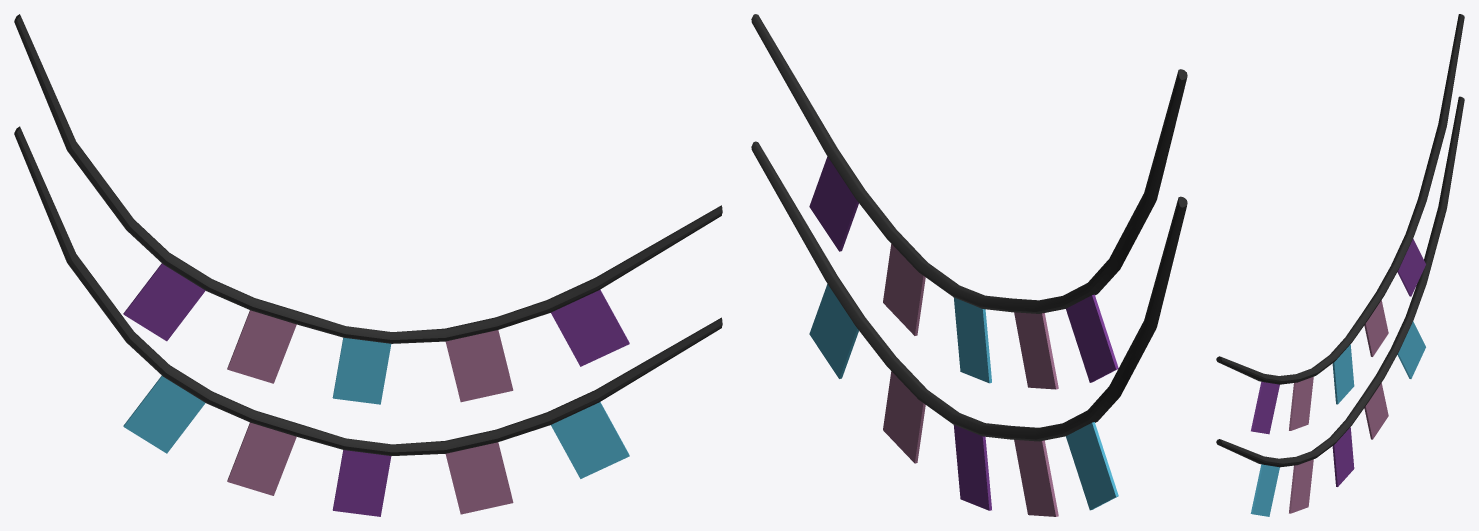
File: Flags.fbx
3 views of the same model, side by side, from view 1: azimuth 30°, elevation 25°; view 2: azimuth 150°, elevation 25°; view 3: azimuth 270°, elevation 25° (orthographic). The views are drawn at different scales.
Parts seen in each view (by area): view 1: Flags2, Flags1; view 2: Flags1, Flags2; view 3: Flags1, Flags2.
Boxes of the visible parts, <box> form: Flags2: <box>14,126,722,516</box>; Flags1: <box>14,14,722,404</box>; Flags1: <box>751,14,1187,389</box>; Flags2: <box>751,141,1187,516</box>; Flags1: <box>1216,14,1464,434</box>; Flags2: <box>1216,96,1464,516</box>.
Size of the model in its own units: 441 by 392 by 236.
